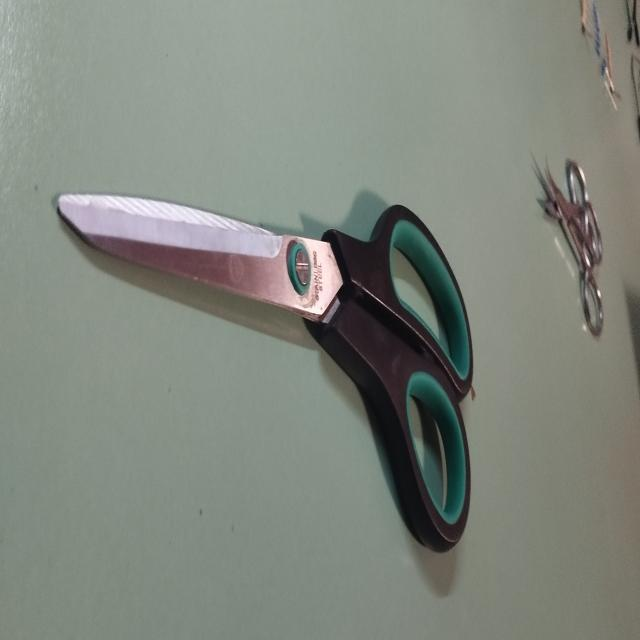tesoura: (54, 172, 474, 558)
